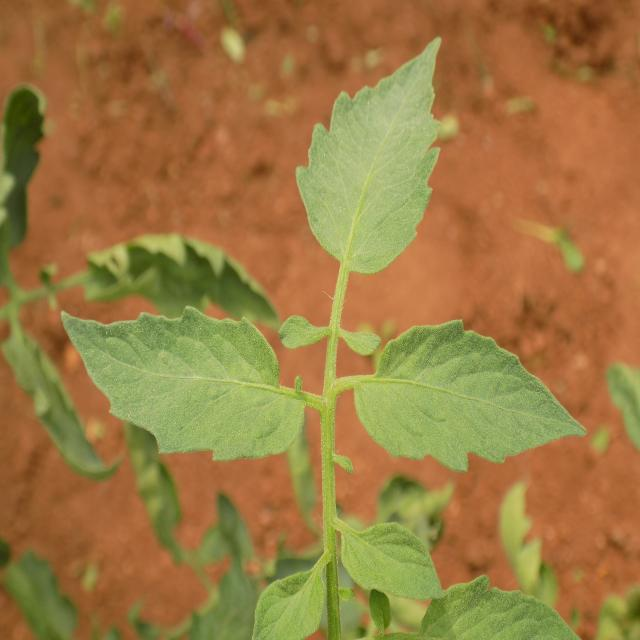tomato_healthy: (48, 311, 300, 459), (298, 32, 438, 280), (357, 322, 586, 471)
